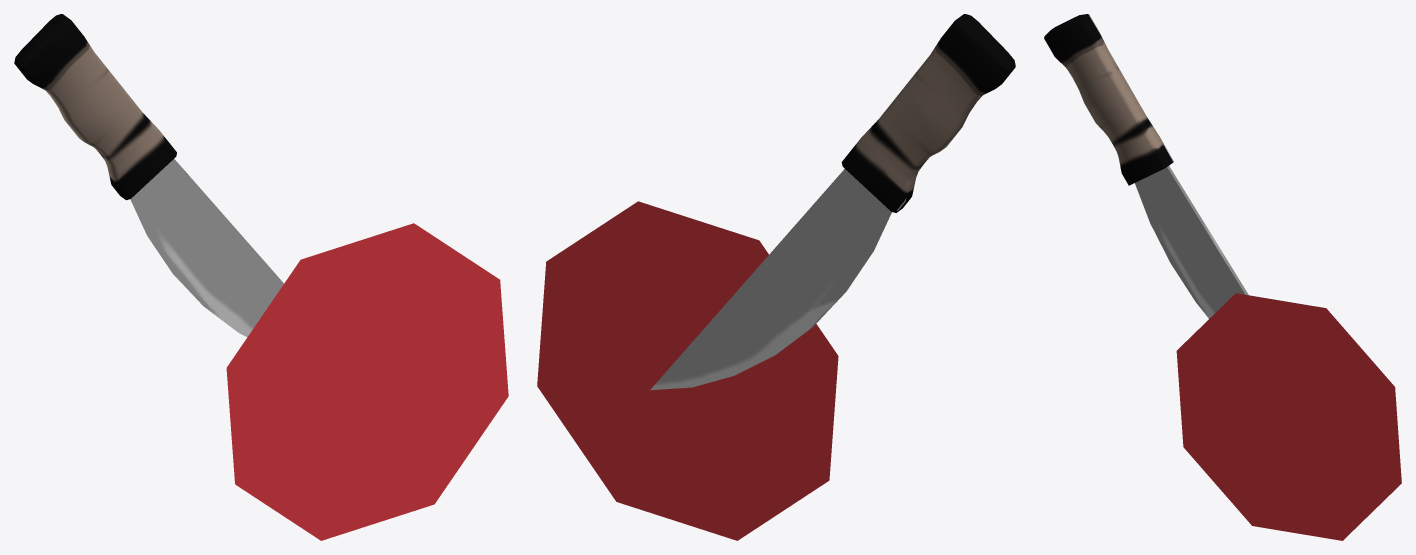
Rendered from knife-3d.fbx.
3 views of the same model, side by side, from view 1: azimuth 30°, elevation 25°; view 2: azimuth 150°, elevation 25°; view 3: azimuth 330°, elevation 25° (orthographic). The views are drawn at different scales.
Parts seen in each view (by area): view 1: spark, knife; view 2: spark, knife; view 3: spark, knife.
Boxes of the visible parts, box(x1,y1,x2,y2) form: spark: box(226, 223, 508, 540); knife: box(14, 14, 283, 337); spark: box(537, 201, 838, 540); knife: box(650, 14, 1015, 390); spark: box(1176, 293, 1401, 540); knife: box(1044, 14, 1248, 318).
Bounding box in the file's own units: 277 × 319 × 30.25.
